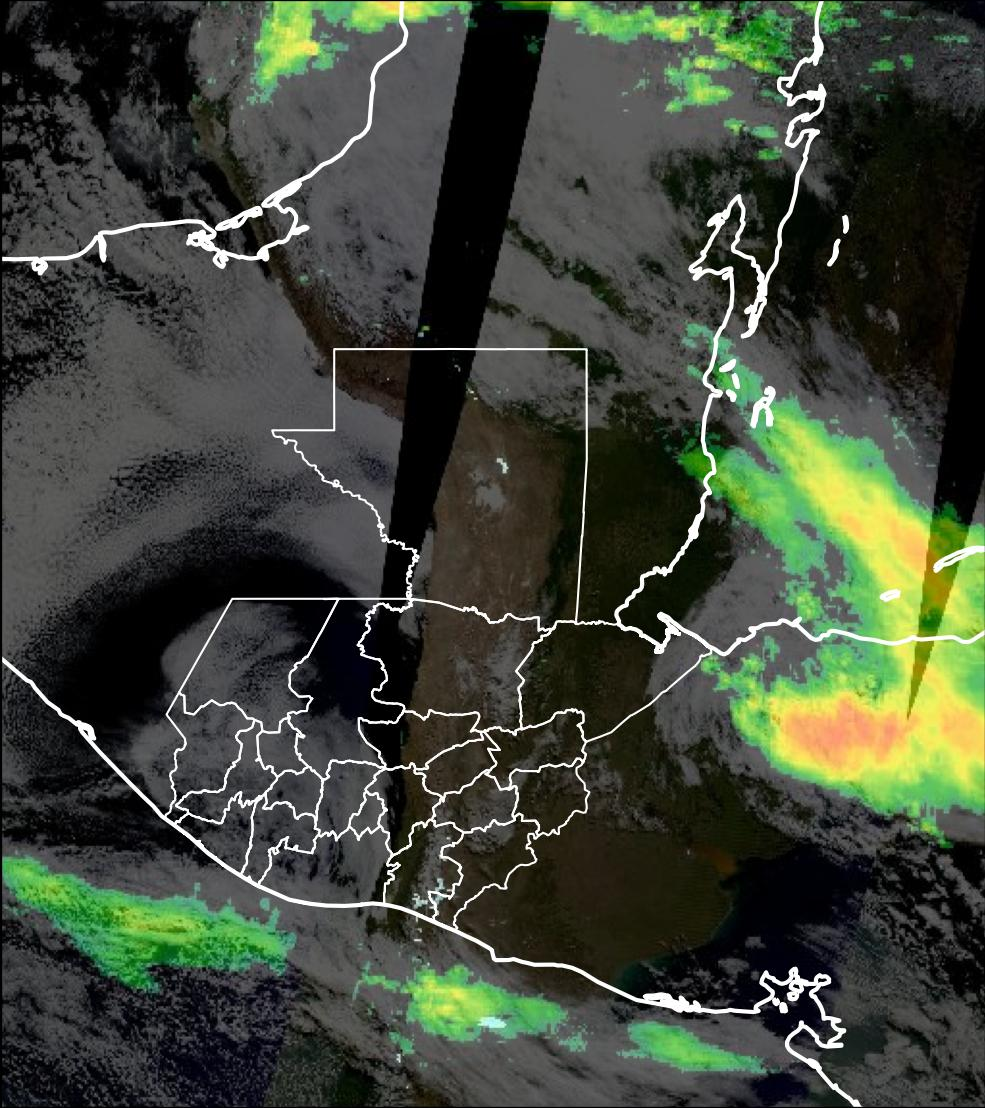precipitacion: (757, 680, 940, 794)
